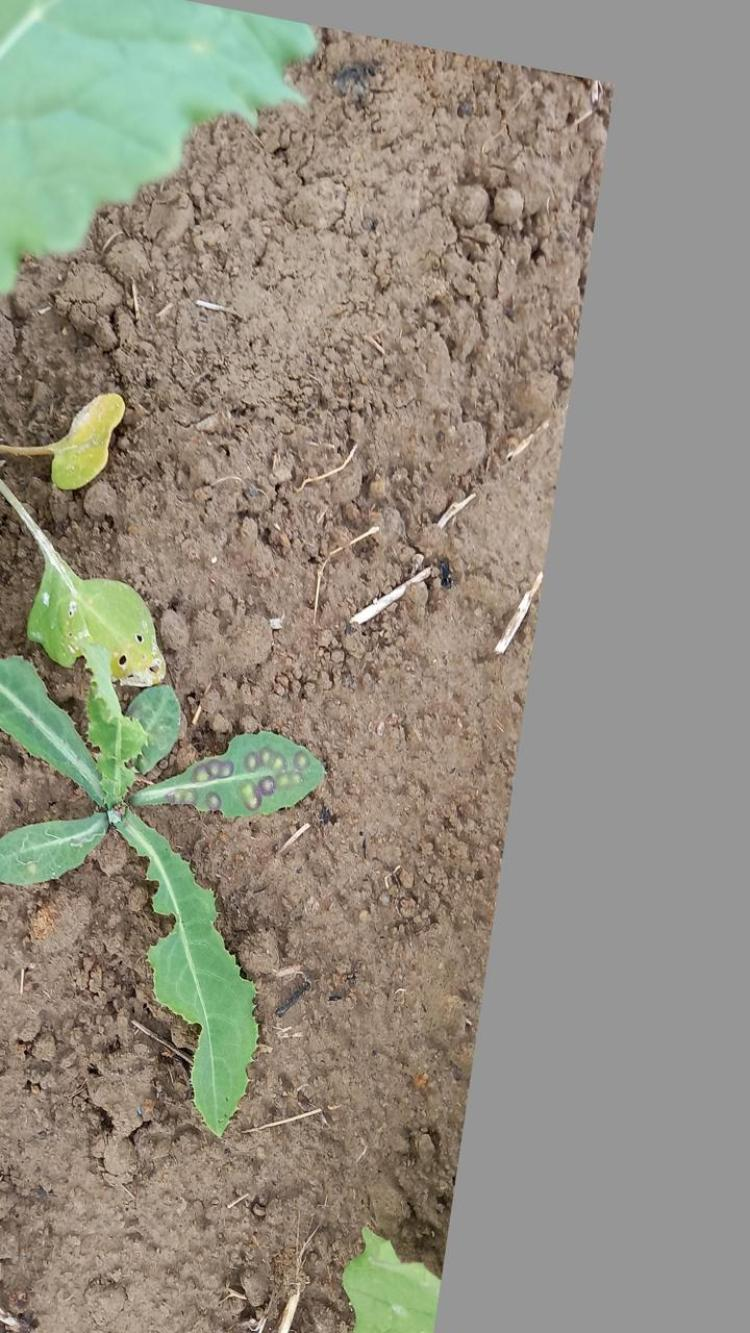bodyak: (0, 650, 329, 1135)
